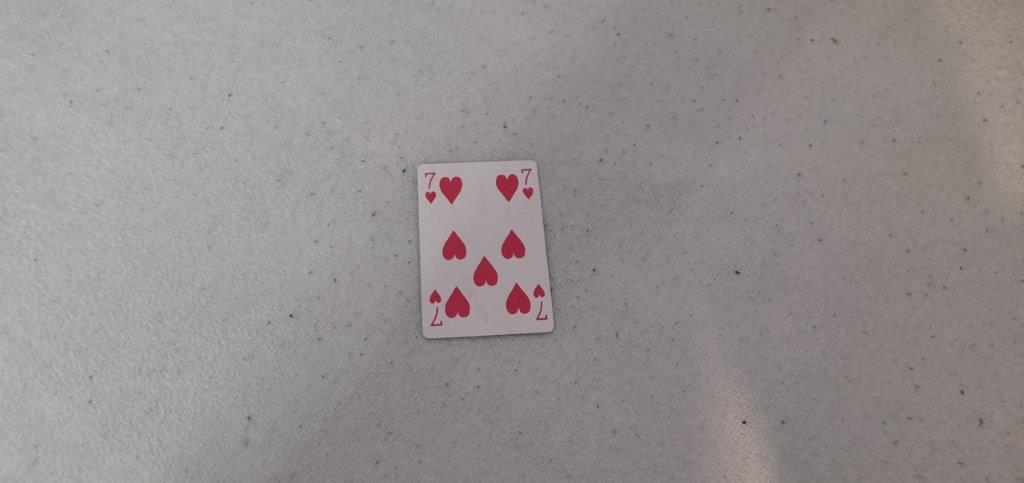7H: (418, 168, 439, 204), (517, 166, 537, 201)
